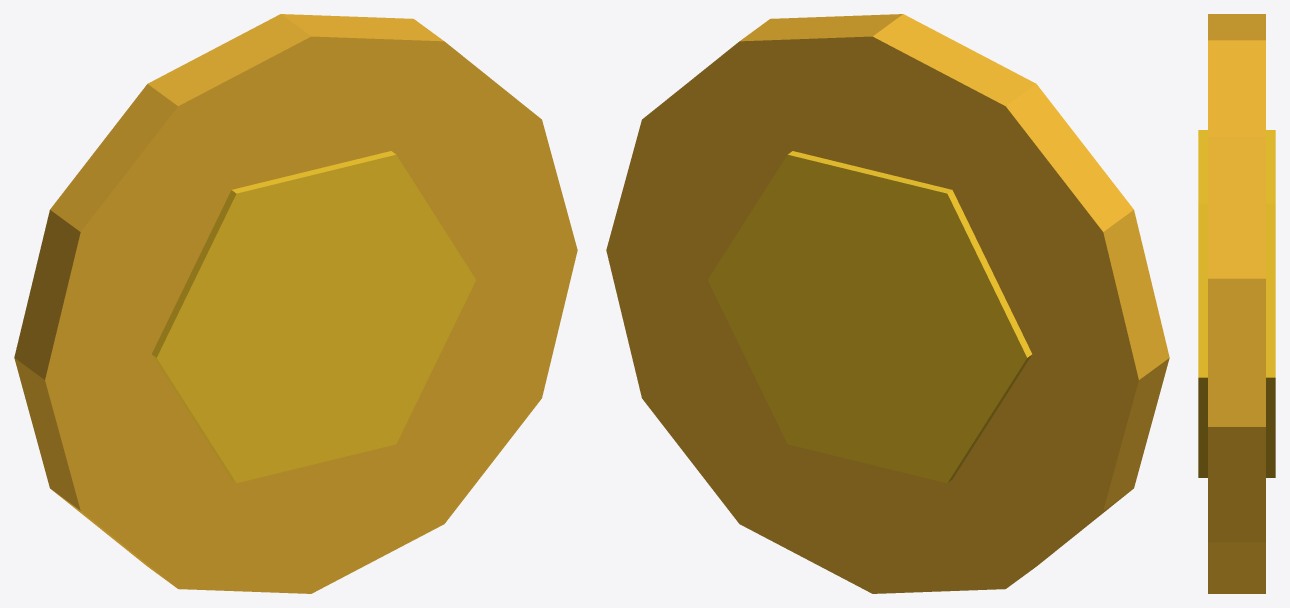
Rendered from coin.glb.
The picture shows the model from 3 angles, left to right: view 1: azimuth 30°, elevation 25°; view 2: azimuth 150°, elevation 25°; view 3: azimuth 270°, elevation 25°; orthographic projection. The views are drawn at different scales.
Parts seen in each view (by area): view 1: gold, flower_yellow; view 2: gold, flower_yellow; view 3: gold, flower_yellow.
Part boxes in pixels (x1,y1,x2,y2): gold: (14, 14, 577, 593); flower_yellow: (151, 151, 475, 483); gold: (606, 14, 1169, 593); flower_yellow: (708, 151, 1032, 483); gold: (1208, 14, 1265, 593); flower_yellow: (1198, 130, 1275, 477).
Size of the model in its own units: 0.6 by 0.6 by 0.08.
